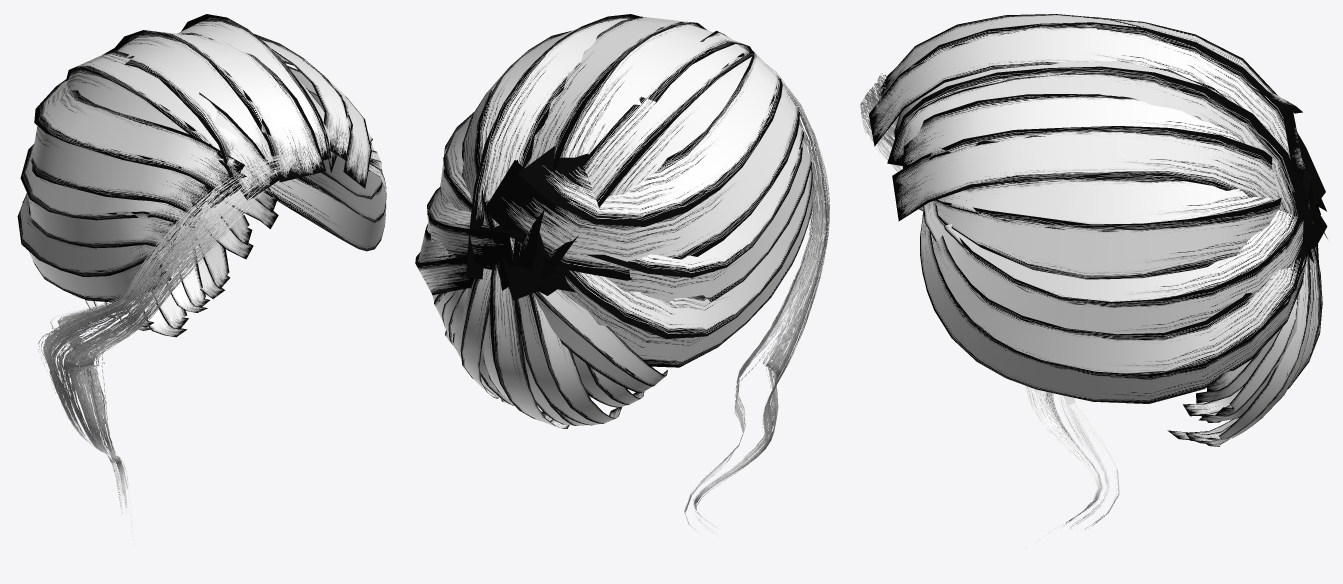
File: Hair_Blender.FBX
The picture shows the model from 3 angles, left to right: view 1: azimuth 30°, elevation 25°; view 2: azimuth 150°, elevation 25°; view 3: azimuth 270°, elevation 25°; orthographic projection. The views are drawn at different scales.
Visible parts, largest first — view 1: Plane_040_Plane_041, Plane_024_Plane_025, Plane_014_Plane_015, Plane_025_Plane_026, Plane_023_Plane_024, Plane_026_Plane_027, Plane_028_Plane_029, Plane_027_Plane_028, Plane_022_Plane_023, Plane_034_Plane_035, Plane_031_Plane_032, Plane_035_Plane_036 (+3 smaller); view 2: Plane_024_Plane_025, Plane_014_Plane_015, Plane_026_Plane_027, Plane_025_Plane_026, Plane_023_Plane_024, Plane_022_Plane_023, Plane_040_Plane_041, Plane_039_Plane_040, Plane_037_Plane_038, Plane_033_Plane_034, Plane_027_Plane_028, Plane_030_Plane_031 (+6 smaller); view 3: Plane_027_Plane_028, Plane_029_Plane_030, Plane_028_Plane_029, Plane_014_Plane_015, Plane_030_Plane_031, Plane_022_Plane_023, Plane_040_Plane_041, Plane_034_Plane_035, Plane_035_Plane_036, Plane_033_Plane_034, Plane_036_Plane_037, Plane_025_Plane_026 (+2 smaller).
Boxes of the visible parts, bbox=[...] form: Plane_040_Plane_041: bbox=[38, 153, 296, 546]; Plane_024_Plane_025: bbox=[31, 48, 244, 216]; Plane_014_Plane_015: bbox=[111, 30, 326, 182]; Plane_025_Plane_026: bbox=[66, 51, 279, 207]; Plane_023_Plane_024: bbox=[20, 144, 201, 249]; Plane_026_Plane_027: bbox=[17, 193, 171, 302]; Plane_028_Plane_029: bbox=[263, 160, 386, 251]; Plane_027_Plane_028: bbox=[253, 33, 371, 188]; Plane_022_Plane_023: bbox=[177, 14, 337, 173]; Plane_034_Plane_035: bbox=[194, 219, 230, 298]; Plane_031_Plane_032: bbox=[157, 225, 209, 312]; Plane_035_Plane_036: bbox=[198, 201, 253, 259]; Plane_024_Plane_025: bbox=[484, 50, 799, 280]; Plane_014_Plane_015: bbox=[513, 16, 752, 292]; Plane_026_Plane_027: bbox=[517, 166, 813, 367]; Plane_025_Plane_026: bbox=[534, 30, 752, 295]; Plane_023_Plane_024: bbox=[512, 124, 811, 301]; Plane_022_Plane_023: bbox=[466, 14, 639, 279]; Plane_040_Plane_041: bbox=[684, 64, 829, 536]; Plane_039_Plane_040: bbox=[533, 289, 667, 393]; Plane_037_Plane_038: bbox=[516, 293, 621, 425]; Plane_033_Plane_034: bbox=[482, 264, 569, 428]; Plane_027_Plane_028: bbox=[462, 29, 576, 300]; Plane_030_Plane_031: bbox=[427, 187, 525, 265]; Plane_027_Plane_028: bbox=[892, 94, 1327, 242]; Plane_029_Plane_030: bbox=[919, 175, 1281, 279]; Plane_028_Plane_029: bbox=[920, 211, 1307, 403]; Plane_014_Plane_015: bbox=[868, 14, 1326, 211]; Plane_030_Plane_031: bbox=[923, 168, 1313, 334]; Plane_022_Plane_023: bbox=[887, 60, 1318, 263]; Plane_040_Plane_041: bbox=[860, 73, 1119, 533]; Plane_034_Plane_035: bbox=[1193, 252, 1313, 440]; Plane_035_Plane_036: bbox=[1198, 292, 1299, 421]; Plane_033_Plane_034: bbox=[1167, 247, 1322, 443]; Plane_036_Plane_037: bbox=[1196, 298, 1289, 403]; Plane_025_Plane_026: bbox=[879, 17, 1320, 214].
Bounding box in the file's own units: 25.81 × 36.54 × 25.85.
